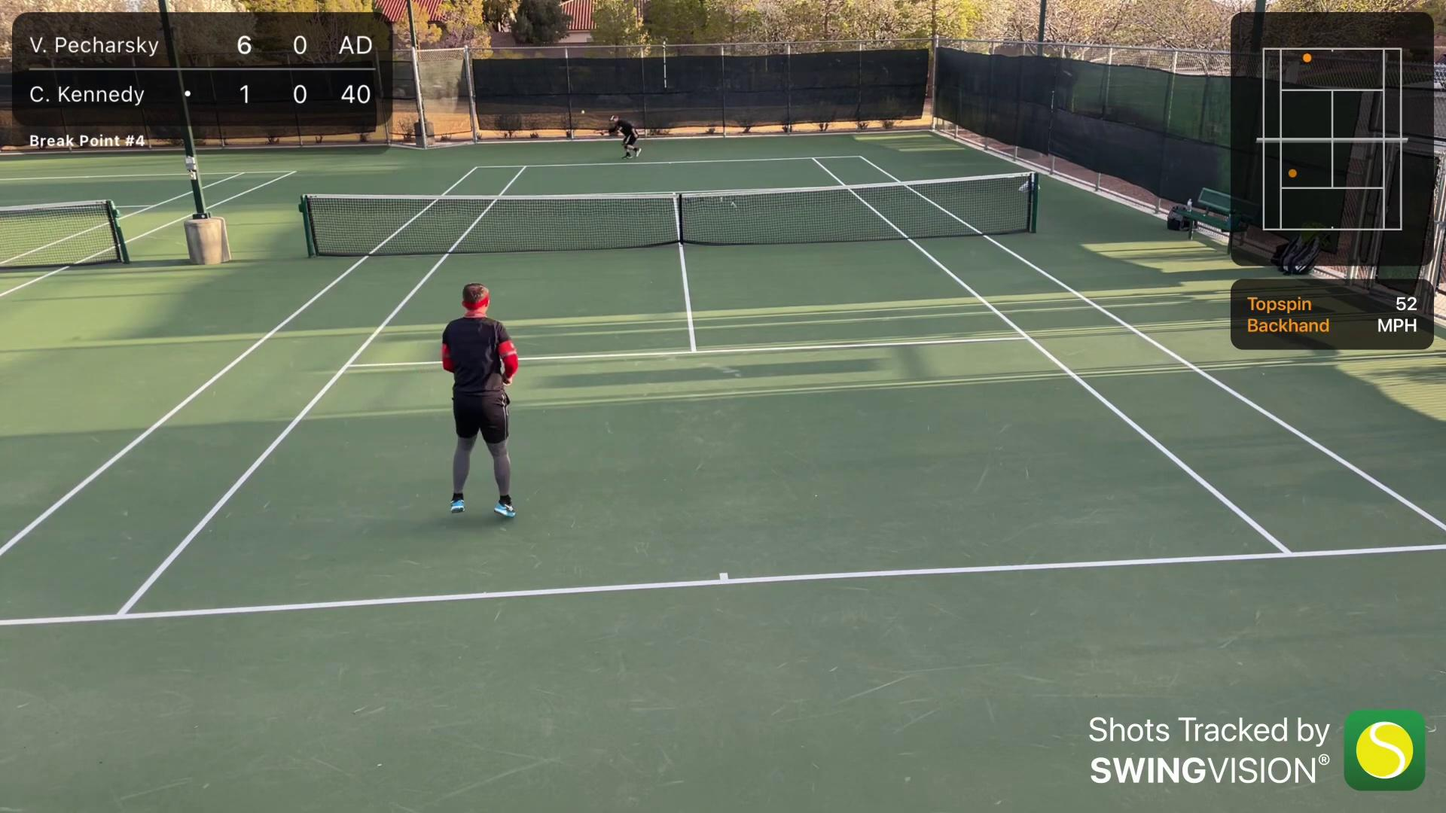ball: (579, 107, 586, 116)
